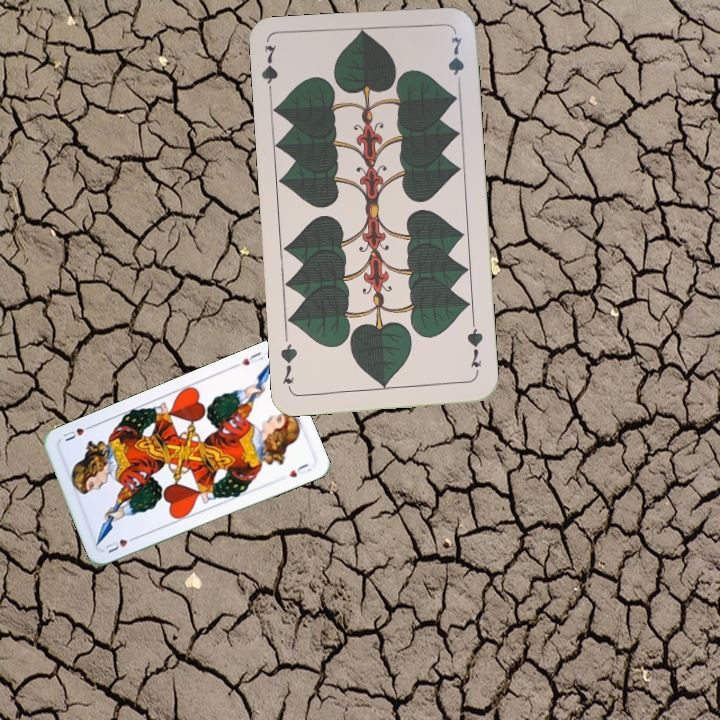G7: (463, 319, 486, 379), (258, 41, 281, 101)
HU: (100, 532, 140, 555), (237, 347, 266, 368)
